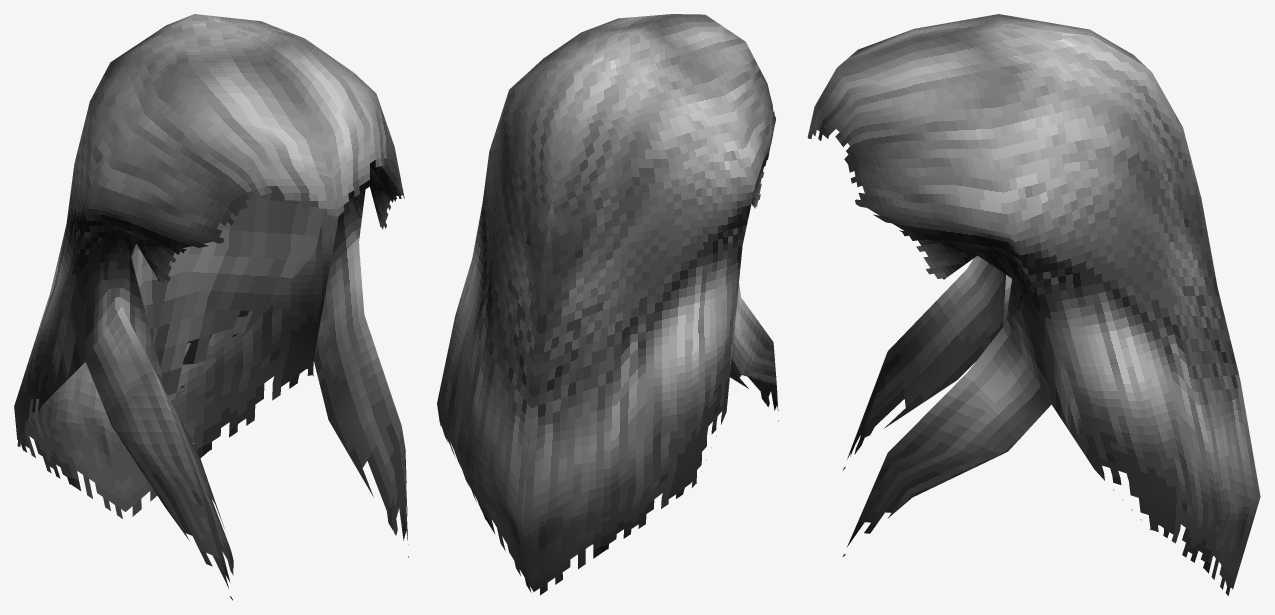
File: f_head001.glb
3 views of the same model, side by side, from view 1: azimuth 30°, elevation 25°; view 2: azimuth 150°, elevation 25°; view 3: azimuth 270°, elevation 25° (orthographic). The views are drawn at different scales.
Bounding box in the file's own units: 21.7 × 38.74 × 27.78.
Materials: 1 (1 with a texture image).
